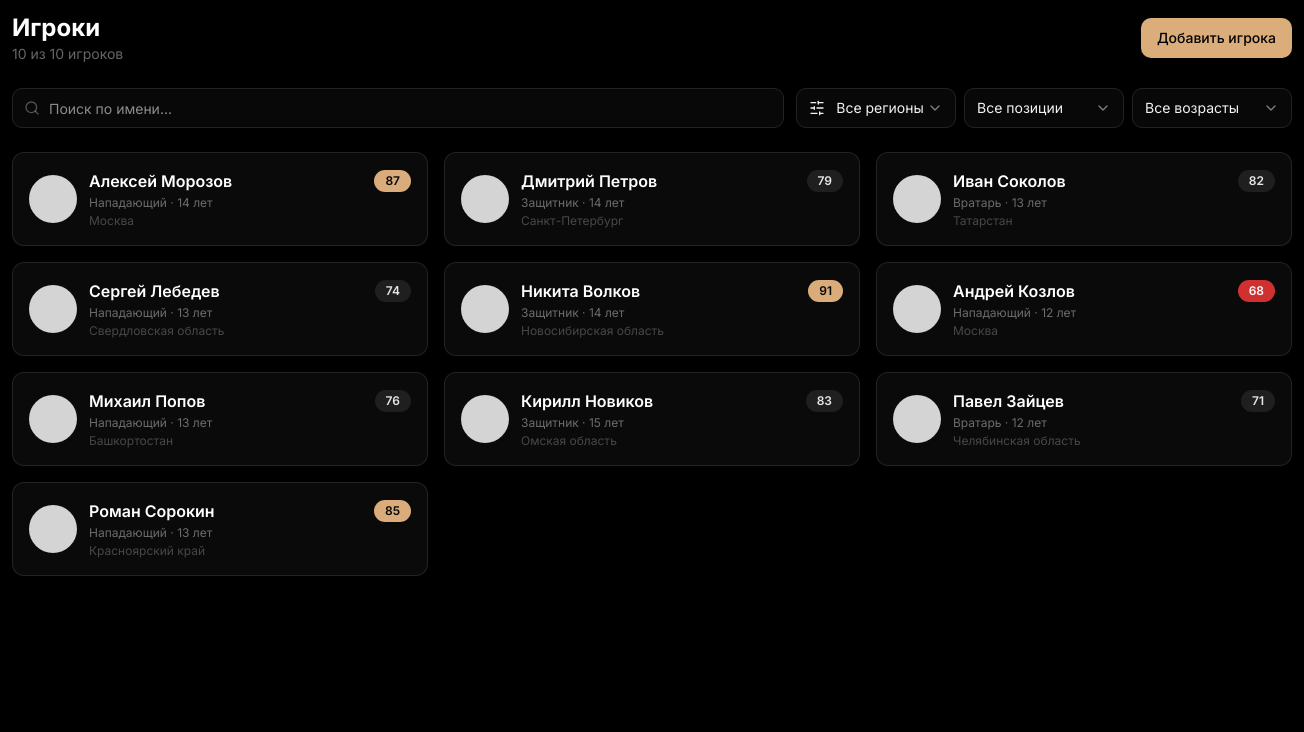
Test: PlayersPage › shows empty state when no players match filters
In the field named "Поиск игрока по имени": (398, 108) [12, 88, 784, 128], type "XXXXXXXXXNOTEXIST"
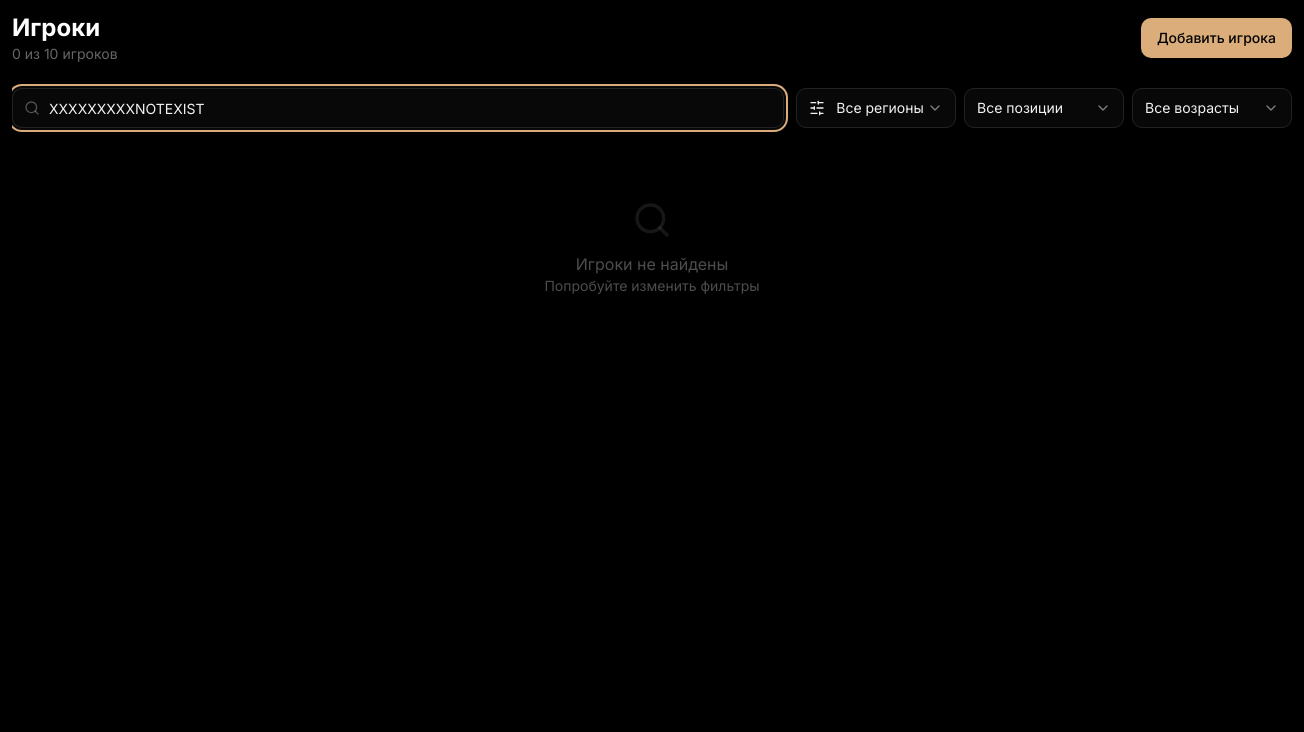
Expected: the text "Игроки не найдены" is shown, [576, 252, 728, 276]
